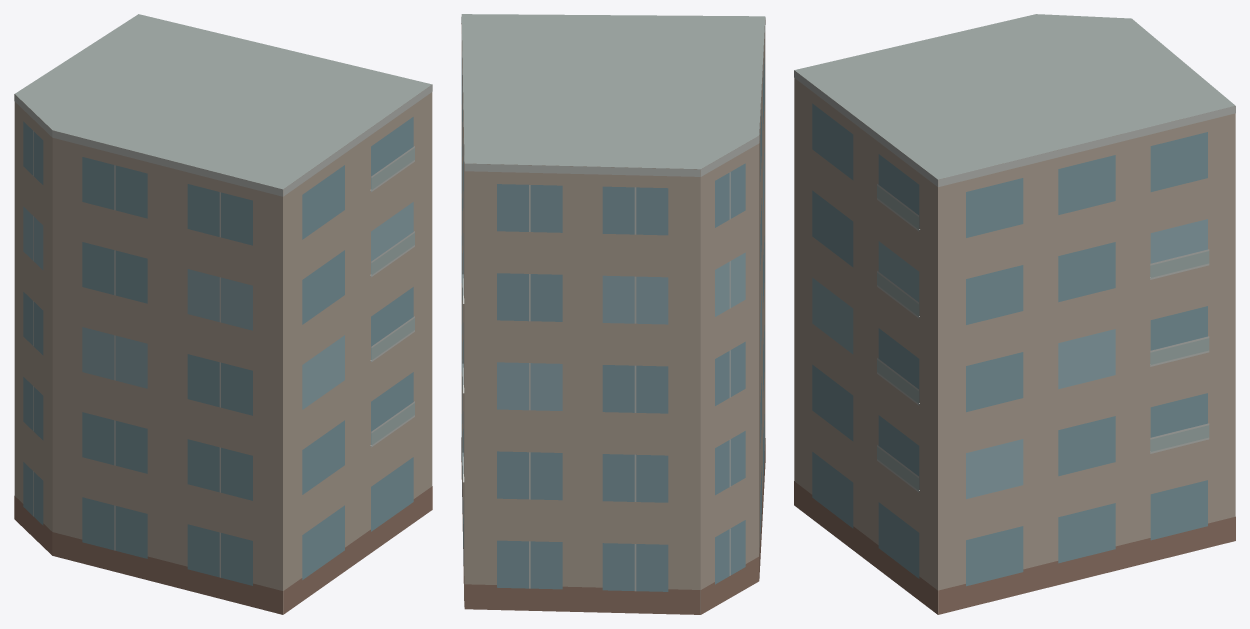
File: survey-upis-32722811.glb
3 views of the same model, side by side, from view 1: azimuth 30°, elevation 25°; view 2: azimuth 150°, elevation 25°; view 3: azimuth 270°, elevation 25° (orthographic). The views are drawn at different scales.
Visible parts, largest first — view 1: survey-upis-32722811.tmp; view 2: survey-upis-32722811.tmp; view 3: survey-upis-32722811.tmp.
Part boxes in pixels (box(x1,y1,x2,y2)): survey-upis-32722811.tmp: box(14, 14, 432, 614); survey-upis-32722811.tmp: box(461, 14, 765, 614); survey-upis-32722811.tmp: box(794, 14, 1235, 614).
Bounding box in the file's own units: 11.44 × 14 × 12.88.
